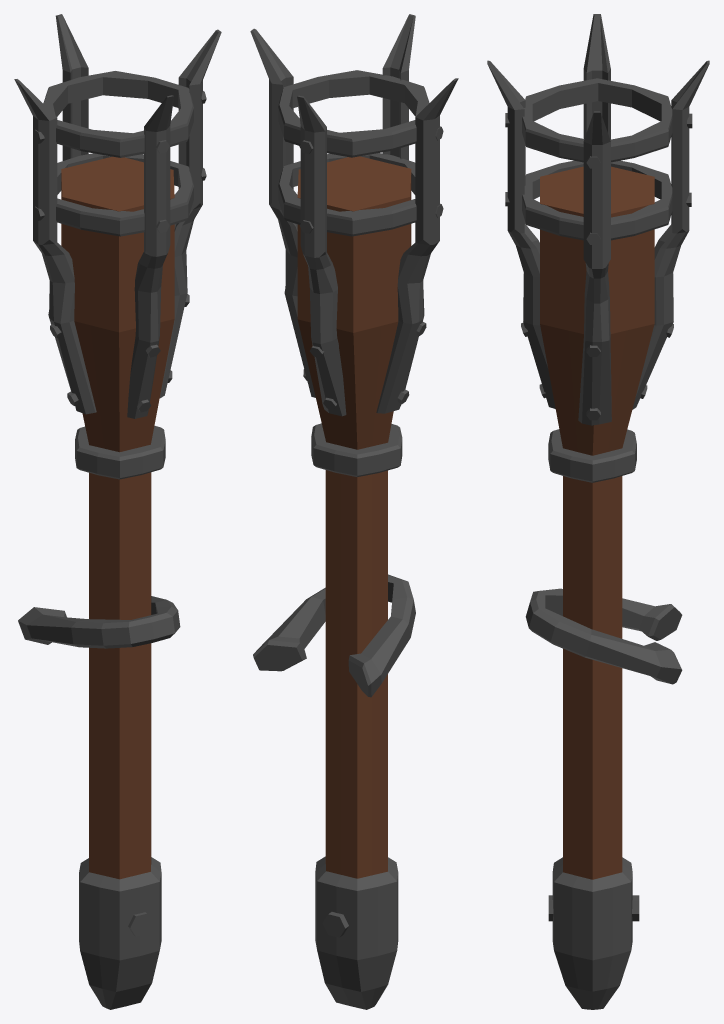
File: UI_Torch.fbx
The picture shows the model from 3 angles, left to right: view 1: azimuth 30°, elevation 25°; view 2: azimuth 150°, elevation 25°; view 3: azimuth 270°, elevation 25°; orthographic projection.
Visible parts, largest first — view 1: Fackel_002.002; view 2: Fackel_002.002; view 3: Fackel_002.002.
Boxes of the visible parts, left/top/right/bottom form: Fackel_002.002: left=14, top=14, right=221, bottom=1009; Fackel_002.002: left=250, top=14, right=458, bottom=1009; Fackel_002.002: left=487, top=14, right=709, bottom=1009.
Size of the model in its own units: 41.37 by 183 by 39.43.
